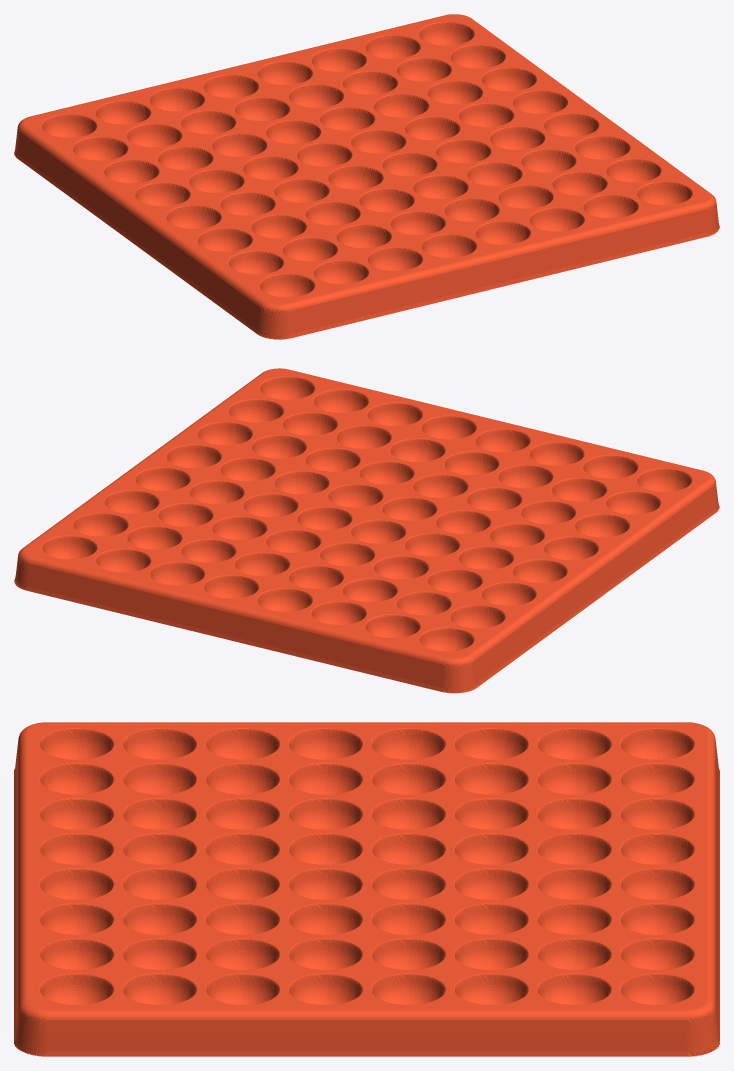
File: mold.glb
3 renders of one model, top to bottom at view 1: azimuth 30°, elevation 25°; view 2: azimuth 150°, elevation 25°; view 3: azimuth 270°, elevation 25°, orthographic. The views are drawn at different scales.
Parts seen in each view (by area): view 1: geometry_0; view 2: geometry_0; view 3: geometry_0.
Part boxes in pixels (box(x1,y1,x2,y2)): geometry_0: box(14, 14, 719, 339); geometry_0: box(14, 368, 719, 693); geometry_0: box(14, 722, 719, 1056).
Bounding box in the file's own units: 0.1886 × 0.0121 × 0.1886.
